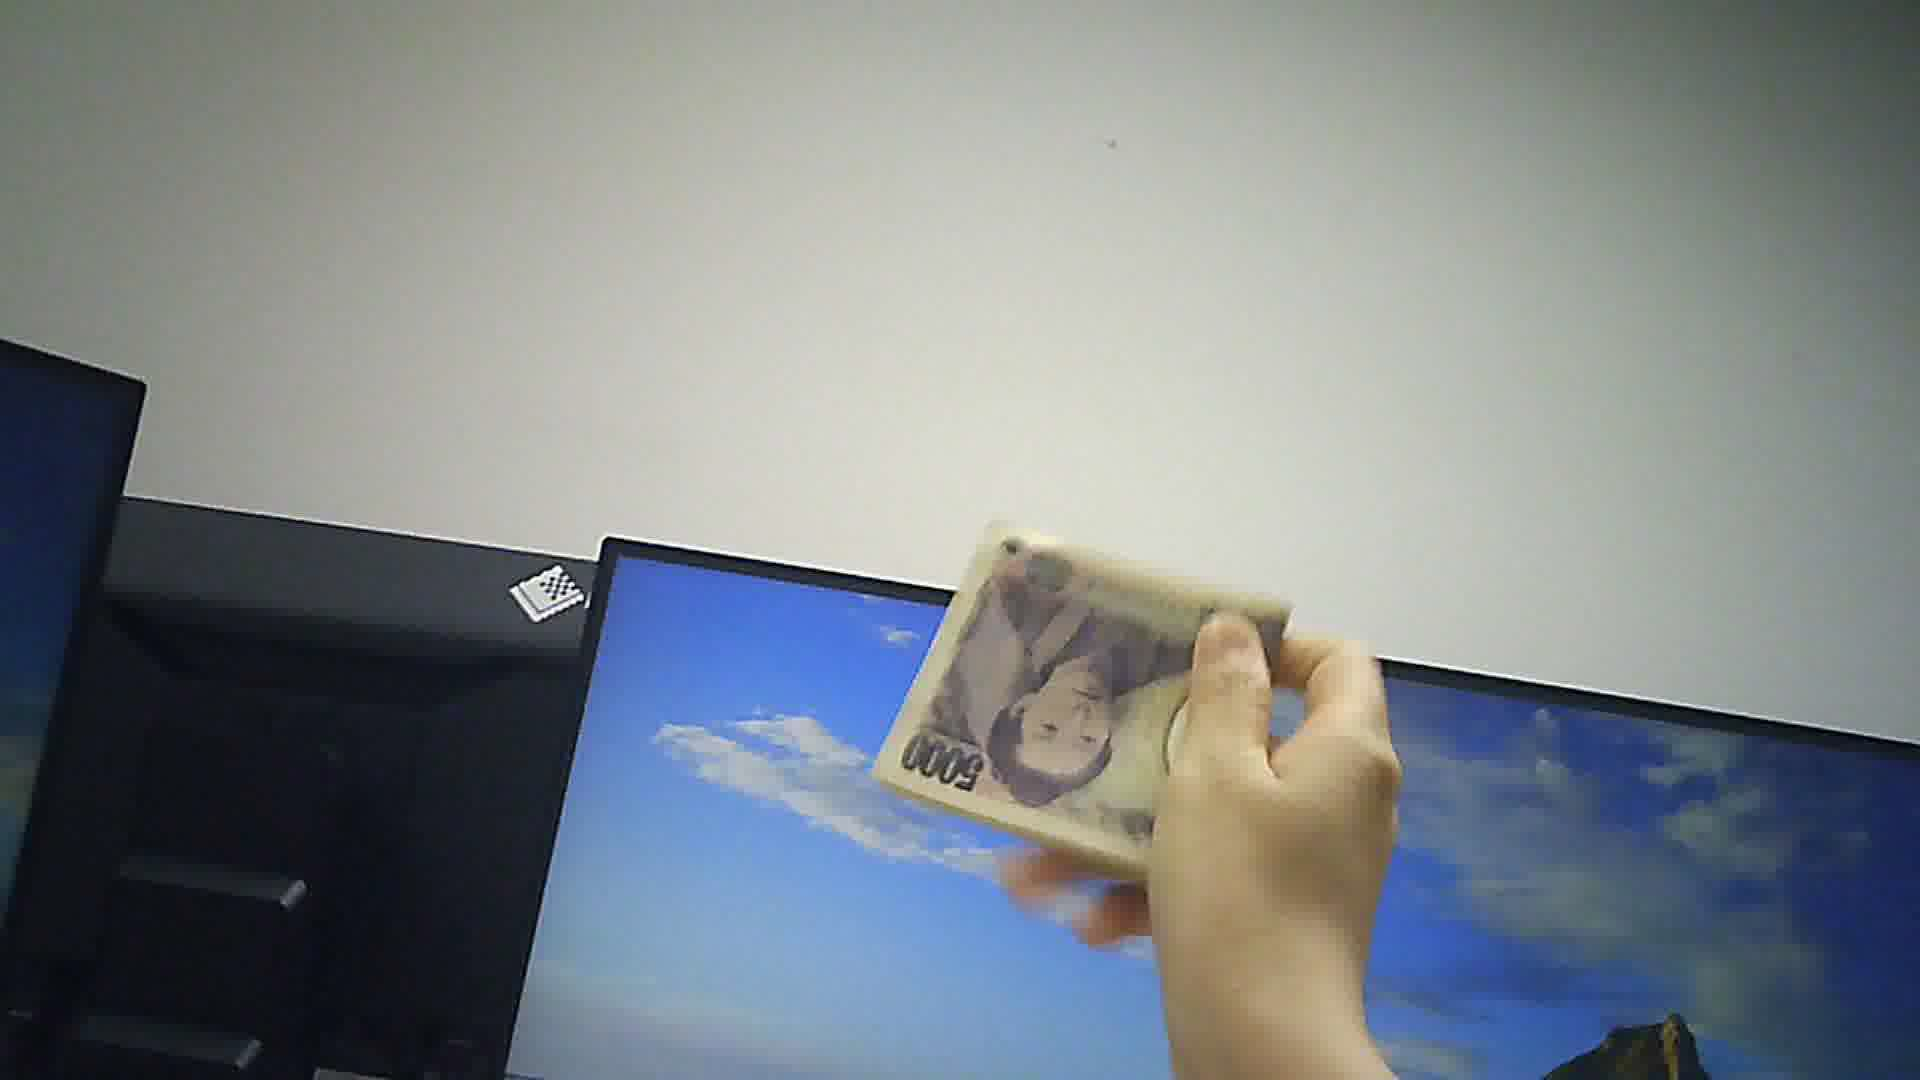5,000 Yen: (874, 513, 1304, 878)
